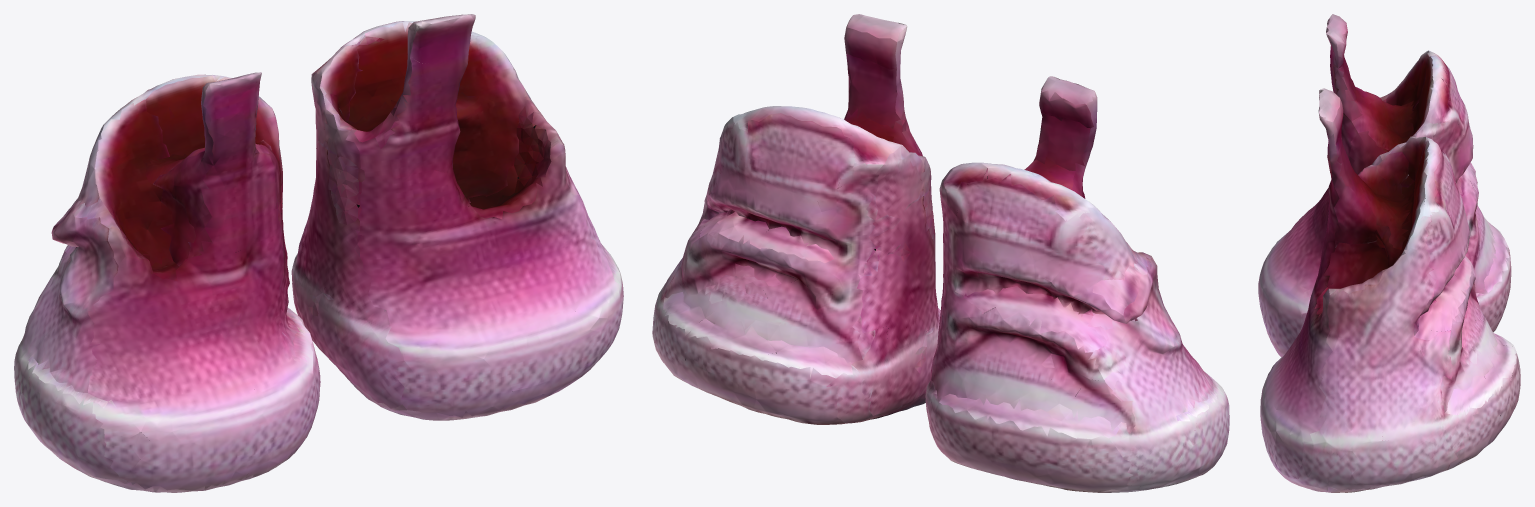
The model's file is result-transformed.glb.
3 renders of one model, left to right at view 1: azimuth 30°, elevation 25°; view 2: azimuth 150°, elevation 25°; view 3: azimuth 270°, elevation 25°, orthographic. The views are drawn at different scales.
Parts seen in each view (by area): view 1: geometry_0; view 2: geometry_0; view 3: geometry_0.
Part boxes in pixels (<box>): geometry_0: <box>14,14,623,492</box>; geometry_0: <box>652,14,1229,492</box>; geometry_0: <box>1258,14,1520,492</box>.
Bounding box in the file's own units: 1 × 0.6649 × 0.4545.
1 material, 1 textured.
